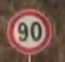limite 90: (5, 7, 54, 55)
